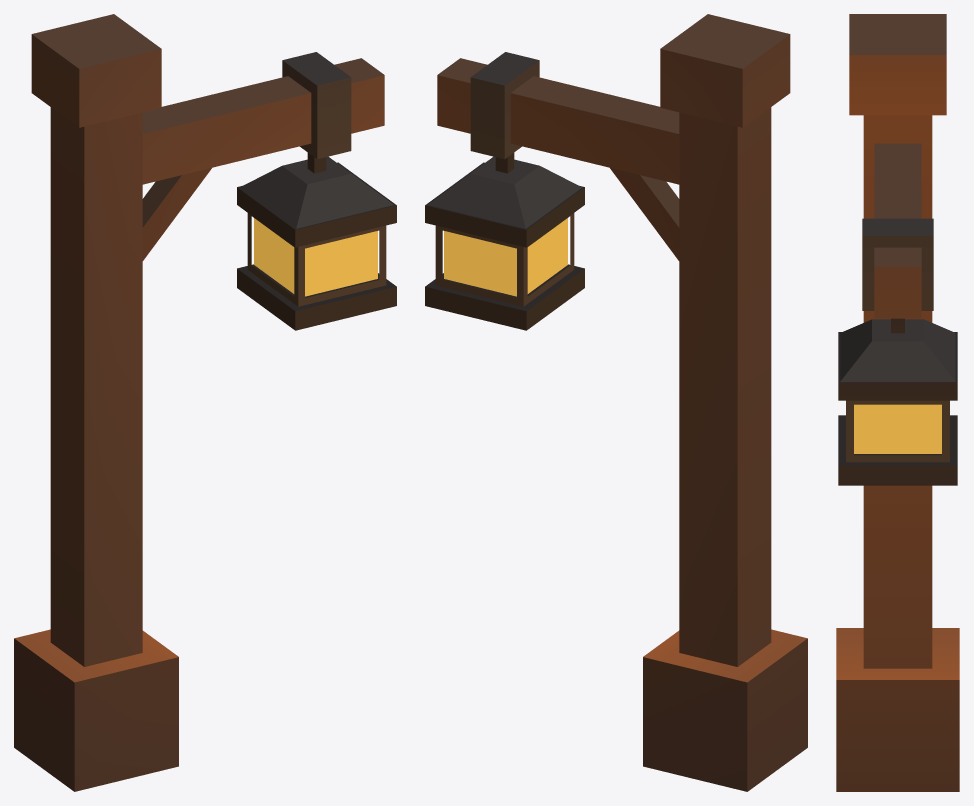
File: lampPost.glb
3 views of the same model, side by side, from view 1: azimuth 30°, elevation 25°; view 2: azimuth 150°, elevation 25°; view 3: azimuth 270°, elevation 25° (orthographic). The views are drawn at different scales.
Parts seen in each view (by area): view 1: lit, glow; view 2: lit, glow; view 3: lit, glow.
Boxes of the visible parts, bbox=[...] form: lit: bbox=[14, 14, 396, 791]; glow: bbox=[254, 218, 377, 296]; lit: bbox=[425, 14, 807, 791]; glow: bbox=[444, 218, 567, 296]; lit: bbox=[836, 14, 959, 791]; glow: bbox=[854, 404, 941, 453].
Bounding box in the file's own units: 1.63 × 3.4 × 0.52.
